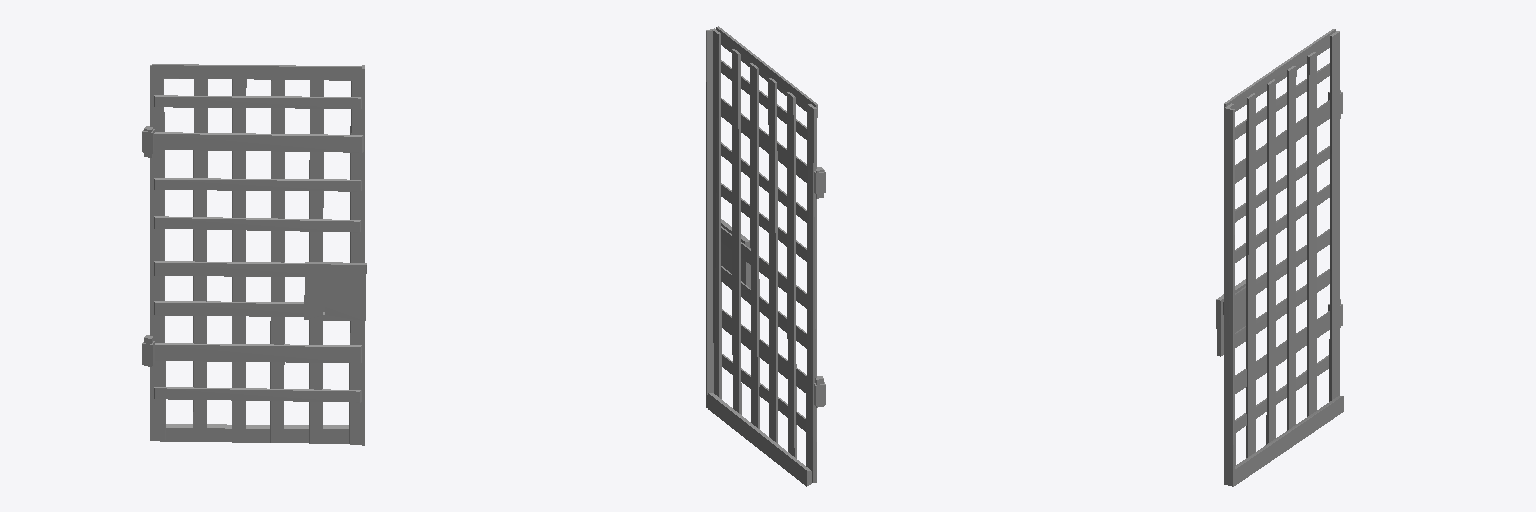
Rendered from Door.obj.
3 renders of one model, left to right at view 1: azimuth 30°, elevation 25°; view 2: azimuth 150°, elevation 25°; view 3: azimuth 270°, elevation 25°, orthographic.
Size of the model in its own units: 1.89 by 4.01 by 1.22.